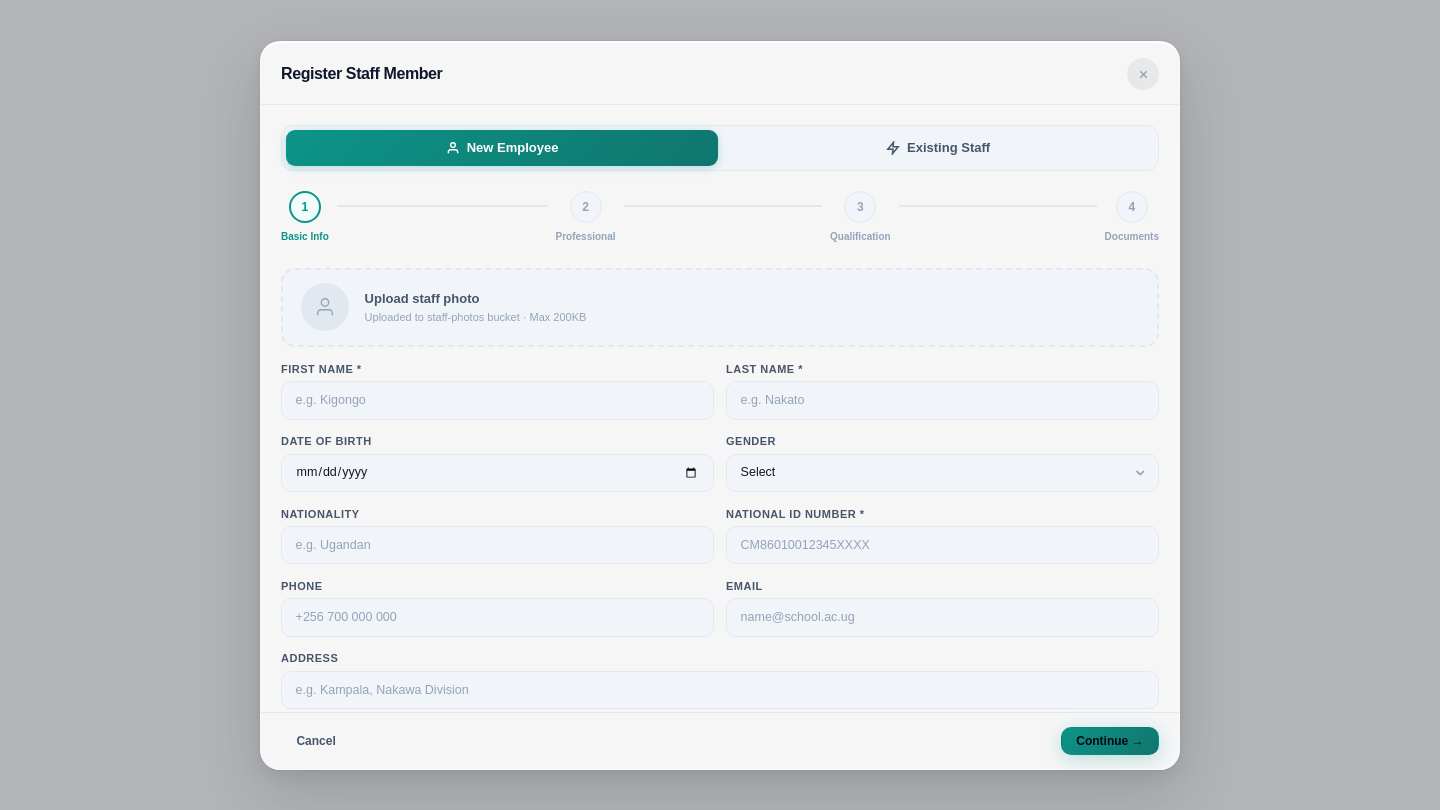
it: StaffRegistrationWizard › shows validation errors for firstName and lastName when Continue clicked with empty fields
Click the button "Continue →".
click(1110, 740)  # box [1061,727,1159,754]
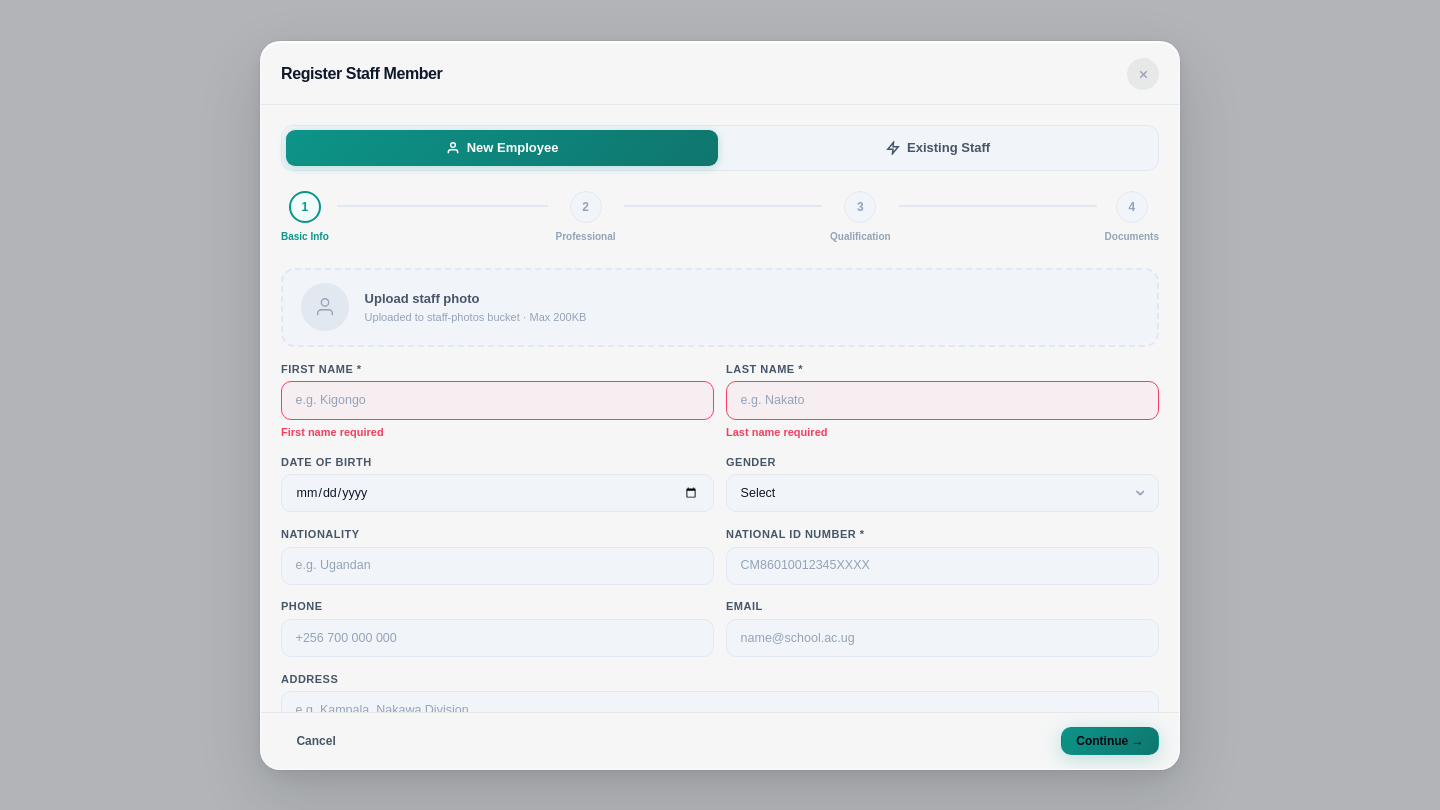
Now the text "First name required" is shown, box [281,425,384,437]
Now the text "Last name required" is shown, box [726,425,828,437]
